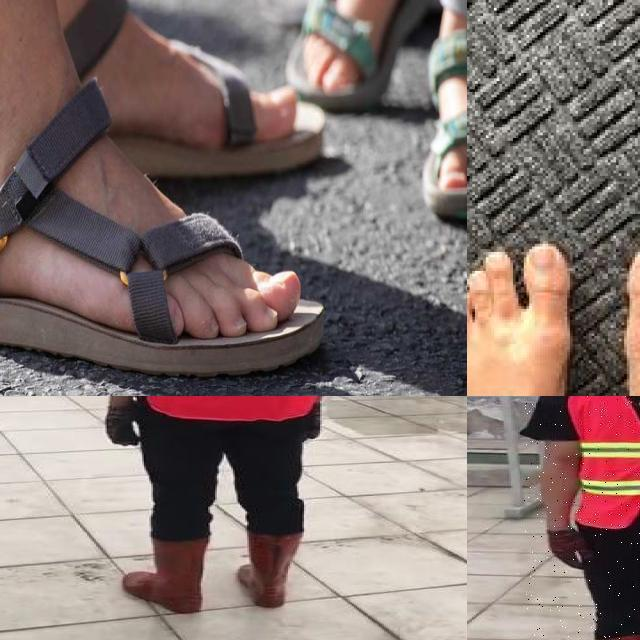Barefoots: (467, 243, 640, 396)
Sandals: (0, 60, 325, 378)
boots: (124, 536, 210, 615), (233, 531, 302, 608)
hand_glove: (101, 405, 142, 449), (308, 405, 326, 440)
person: (90, 396, 373, 626), (524, 396, 640, 640)
vest: (571, 396, 640, 532)
